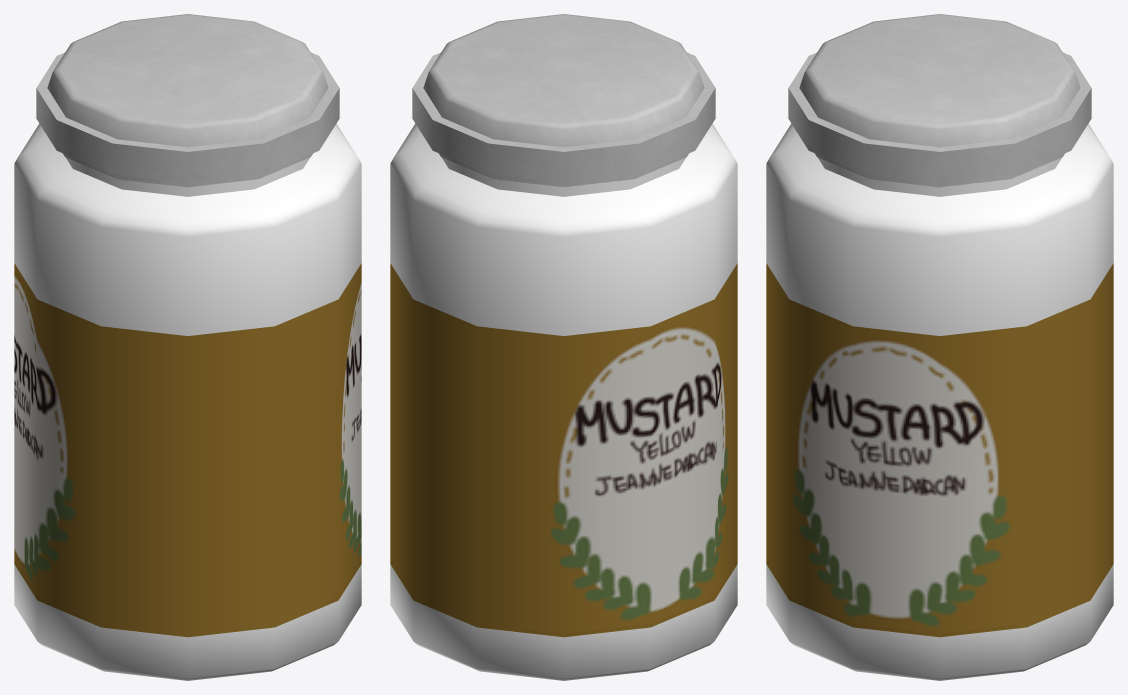
Rendered from yellow_rabel.FBX.
3 renders of one model, left to right at view 1: azimuth 30°, elevation 25°; view 2: azimuth 150°, elevation 25°; view 3: azimuth 270°, elevation 25°, orthographic.
Visible parts, largest first — view 1: yellow_rabel; view 2: yellow_rabel; view 3: yellow_rabel.
Part boxes in pixels (x1,y1,x2,y2): yellow_rabel: (14, 14, 361, 680); yellow_rabel: (390, 14, 737, 680); yellow_rabel: (766, 14, 1113, 680).
Size of the model in its own units: 12.4 by 21.29 by 12.4.
